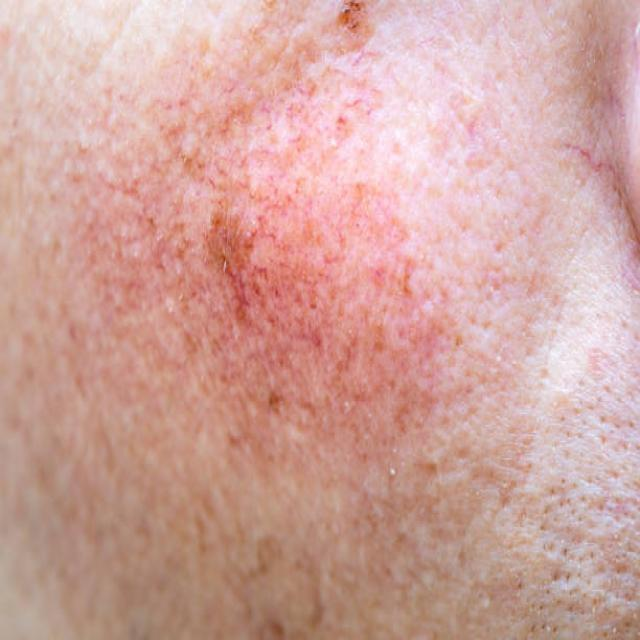Rosacea: (105, 45, 447, 445)
